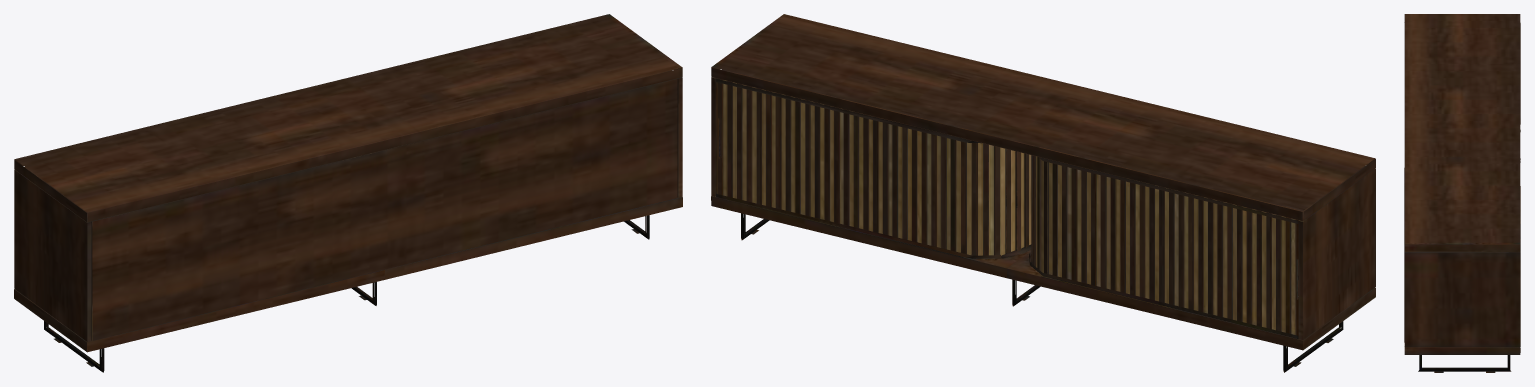
Rendered from media_cabinet.glb.
3 views of the same model, side by side, from view 1: azimuth 30°, elevation 25°; view 2: azimuth 150°, elevation 25°; view 3: azimuth 270°, elevation 25° (orthographic). The views are drawn at different scales.
Parts seen in each view (by area): view 1: media_cabinet; view 2: media_cabinet; view 3: media_cabinet.
Part boxes in pixels (left/top/right/bottom): media_cabinet: left=14, top=14, right=682, bottom=372; media_cabinet: left=711, top=14, right=1375, bottom=372; media_cabinet: left=1404, top=14, right=1520, bottom=372.
Size of the model in its own units: 2.44 by 0.6801 by 0.5204.
Materials: 1 (1 with a texture image).
